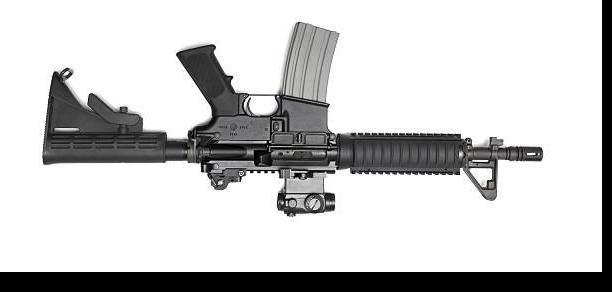larga: (42, 21, 544, 219)
